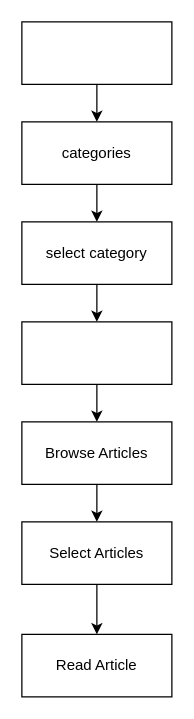
This 194x719 diagram has some shape labels left out. The centre of each missing label's shape, as x and y in pixels:
"category page" goes at point (96, 352).
"landing page" goes at point (96, 52).
